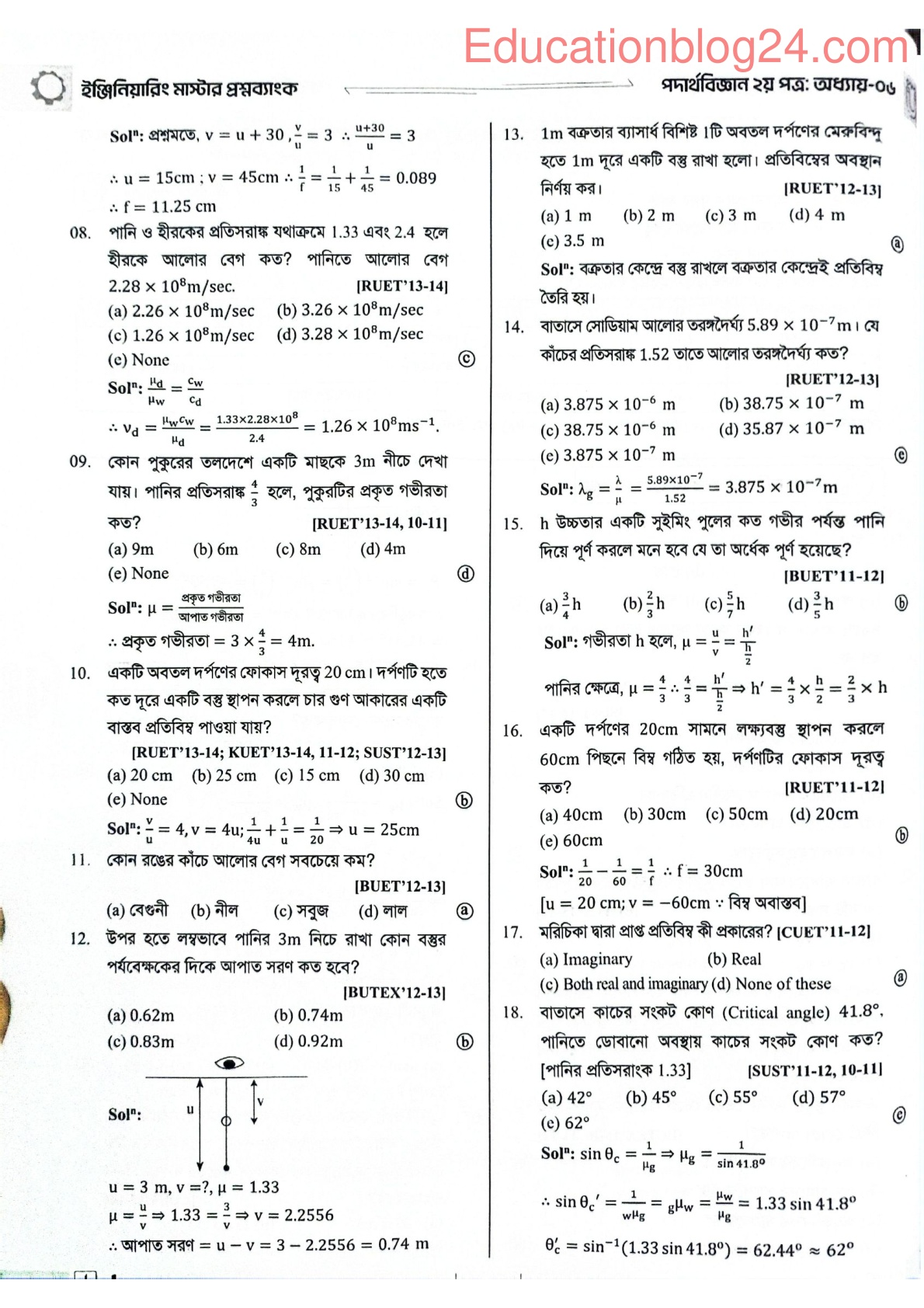question: (64, 653, 454, 810), (496, 309, 885, 465), (64, 218, 455, 369), (494, 107, 889, 251), (496, 708, 896, 849), (62, 445, 455, 584), (496, 999, 889, 1135), (67, 924, 454, 1051), (498, 506, 892, 625), (496, 912, 876, 999), (67, 846, 452, 926)
